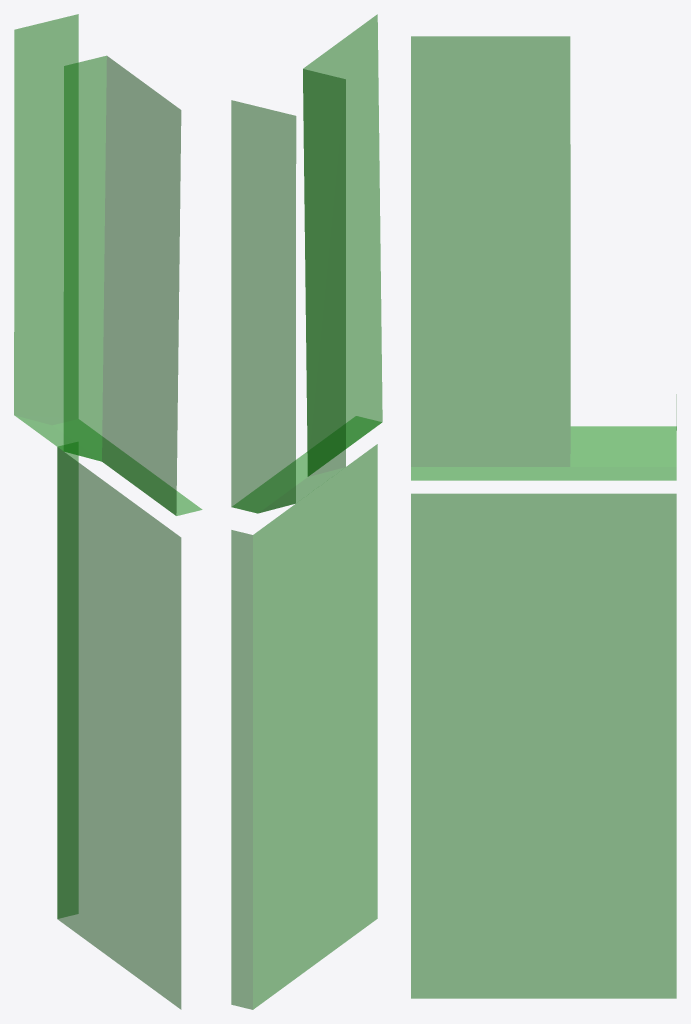
File: D10_wall03.obj
3 views of the same model, side by side, from view 1: azimuth 30°, elevation 25°; view 2: azimuth 150°, elevation 25°; view 3: azimuth 270°, elevation 25° (orthographic). The views are drawn at different scales.
Size of the model in its own units: 3 by 40 by 10.01.
